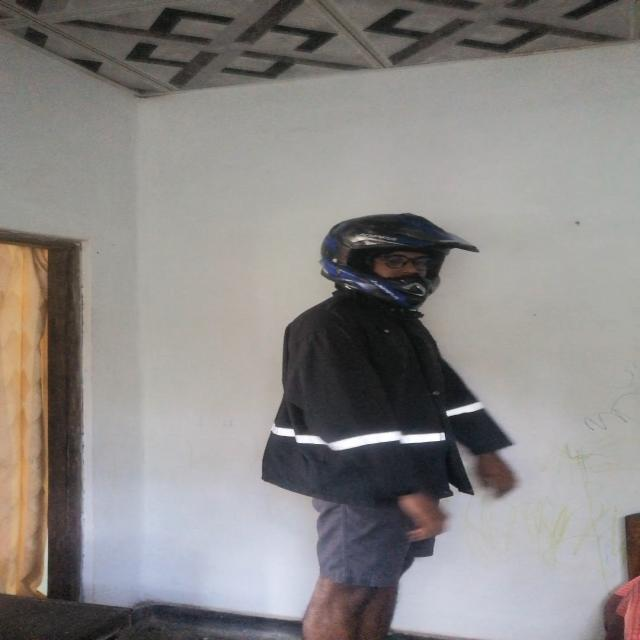Helmet_Wearer: (305, 203, 480, 317)
Jacket_Wearer: (270, 286, 500, 516)
Person: (265, 216, 520, 640)
